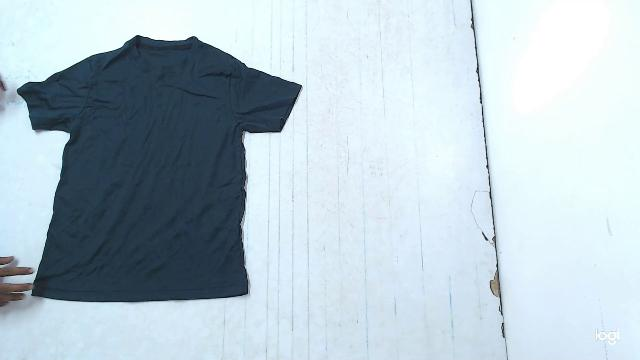new-garment: (17, 36, 301, 301)
